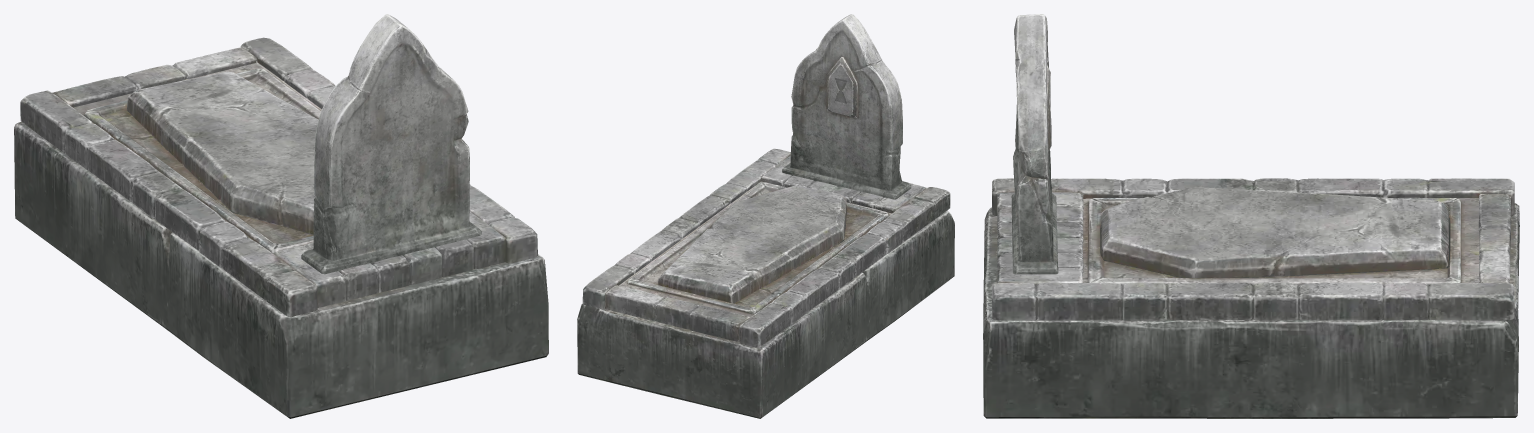
3 renders of one model, left to right at view 1: azimuth 30°, elevation 25°; view 2: azimuth 150°, elevation 25°; view 3: azimuth 270°, elevation 25°, orthographic. The views are drawn at different scales.
Parts seen in each view (by area): view 1: SM_Tombstone_02v1_LOD0; view 2: SM_Tombstone_02v1_LOD0; view 3: SM_Tombstone_02v1_LOD0.
Part boxes in pixels (x1,y1,x2,y2): SM_Tombstone_02v1_LOD0: (14, 14, 548, 418); SM_Tombstone_02v1_LOD0: (577, 14, 954, 418); SM_Tombstone_02v1_LOD0: (983, 14, 1519, 418).
Size of the model in its own units: 2.02 by 2.59 by 3.67.
Materials: 3 (3 with a texture image).
